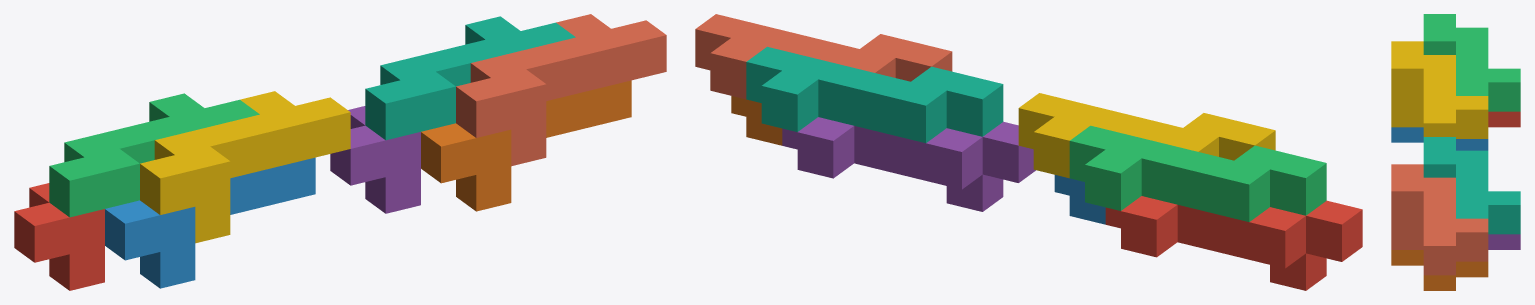
File: tiling.obj
3 views of the same model, side by side, from view 1: azimuth 30°, elevation 25°; view 2: azimuth 150°, elevation 25°; view 3: azimuth 270°, elevation 25° (orthographic). The views are drawn at different scales.
Visible parts, largest first — view 1: copy_1_domain_8, copy_1_domain_4, copy_1_domain_7, copy_1_domain_3, copy_1_domain_2, copy_1_domain_6, copy_1_domain_1, copy_1_domain_5; view 2: copy_1_domain_7, copy_1_domain_3, copy_1_domain_1, copy_1_domain_5, copy_1_domain_8, copy_1_domain_4, copy_1_domain_6, copy_1_domain_2; view 3: copy_1_domain_8, copy_1_domain_4, copy_1_domain_3, copy_1_domain_7, copy_1_domain_6, copy_1_domain_2, copy_1_domain_1, copy_1_domain_5.
Boxes of the visible parts, x1=… form: copy_1_domain_8: x1=456, y1=14, x2=666, y2=166; copy_1_domain_4: x1=140, y1=91, x2=350, y2=243; copy_1_domain_7: x1=365, y1=16, x2=575, y2=140; copy_1_domain_3: x1=49, y1=93, x2=259, y2=217; copy_1_domain_2: x1=105, y1=157, x2=315, y2=288; copy_1_domain_6: x1=421, y1=80, x2=631, y2=211; copy_1_domain_1: x1=14, y1=183, x2=104, y2=290; copy_1_domain_5: x1=330, y1=106, x2=420, y2=213; copy_1_domain_7: x1=746, y1=46, x2=1003, y2=143; copy_1_domain_3: x1=1069, y1=125, x2=1326, y2=221; copy_1_domain_1: x1=1105, y1=196, x2=1362, y2=290; copy_1_domain_5: x1=782, y1=117, x2=1035, y2=211; copy_1_domain_8: x1=695, y1=14, x2=952, y2=99; copy_1_domain_4: x1=1018, y1=93, x2=1275, y2=178; copy_1_domain_6: x1=731, y1=96, x2=782, y2=145; copy_1_domain_2: x1=1054, y1=175, x2=1105, y2=224; copy_1_domain_8: x1=1391, y1=164, x2=1488, y2=275; copy_1_domain_4: x1=1391, y1=41, x2=1488, y2=138; copy_1_domain_3: x1=1423, y1=14, x2=1520, y2=111; copy_1_domain_7: x1=1423, y1=137, x2=1520, y2=234; copy_1_domain_6: x1=1391, y1=250, x2=1488, y2=290; copy_1_domain_2: x1=1391, y1=127, x2=1488, y2=150; copy_1_domain_1: x1=1488, y1=111, x2=1520, y2=127; copy_1_domain_5: x1=1488, y1=234, x2=1520, y2=249.
Bounding box in the file's own units: 18 × 3 × 4.
